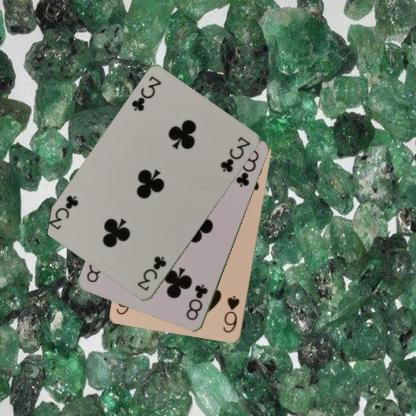3c: (129, 74, 163, 114), (135, 254, 168, 292)
6s: (220, 293, 241, 334)
8c: (184, 281, 209, 322)
